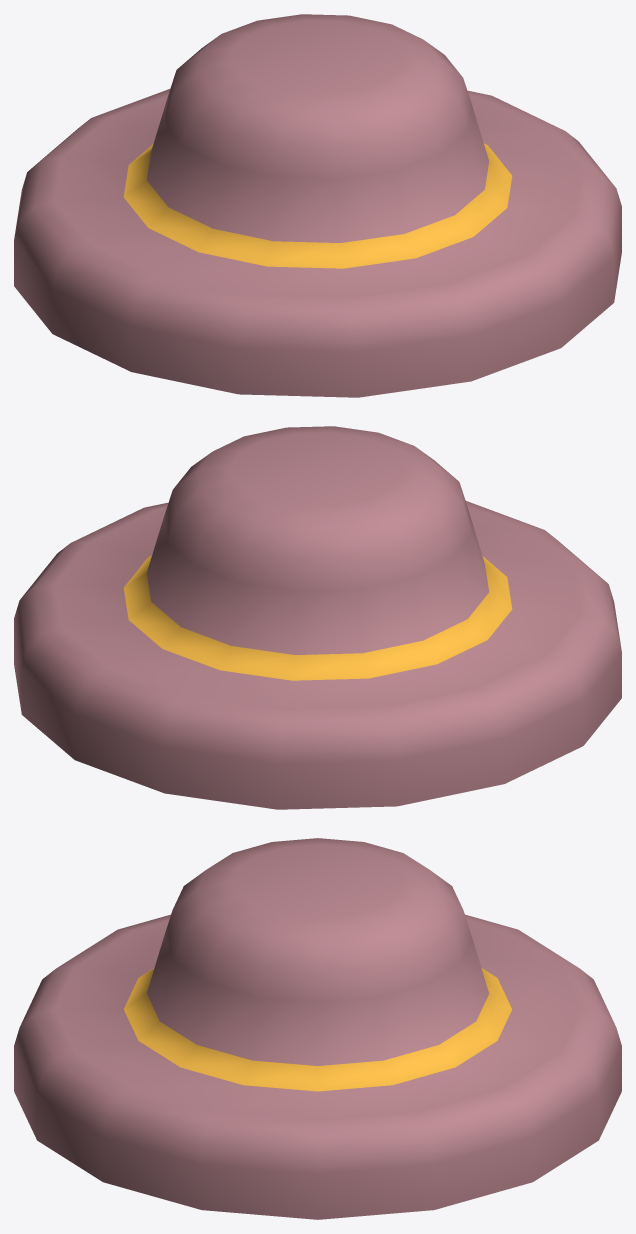
Rendered from Cap_5.fbx.
3 renders of one model, top to bottom at view 1: azimuth 30°, elevation 25°; view 2: azimuth 150°, elevation 25°; view 3: azimuth 270°, elevation 25°, orthographic.
Visible parts, largest first — view 1: Cap_5; view 2: Cap_5; view 3: Cap_5.
Boxes of the visible parts, box(x1,y1,x2,y2) form: Cap_5: box(14, 14, 621, 397); Cap_5: box(14, 426, 621, 809); Cap_5: box(14, 838, 621, 1219).
Size of the model in its own units: 0.2893 by 0.1101 by 0.2893.
